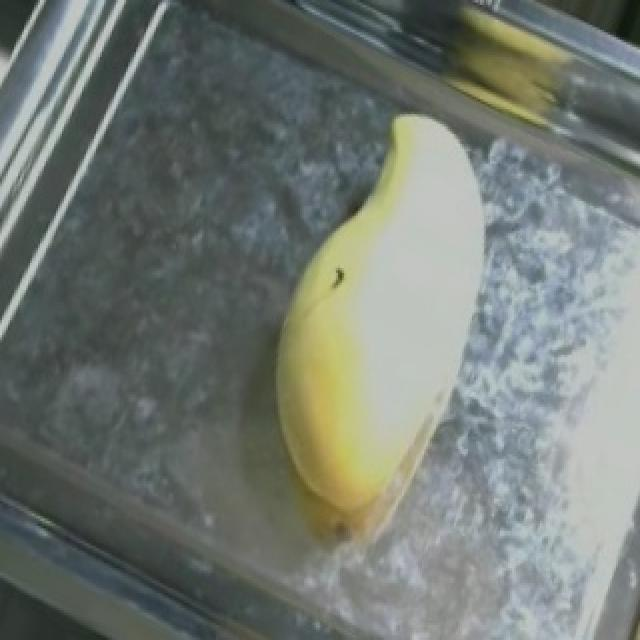fruit: (210, 218, 498, 568)
